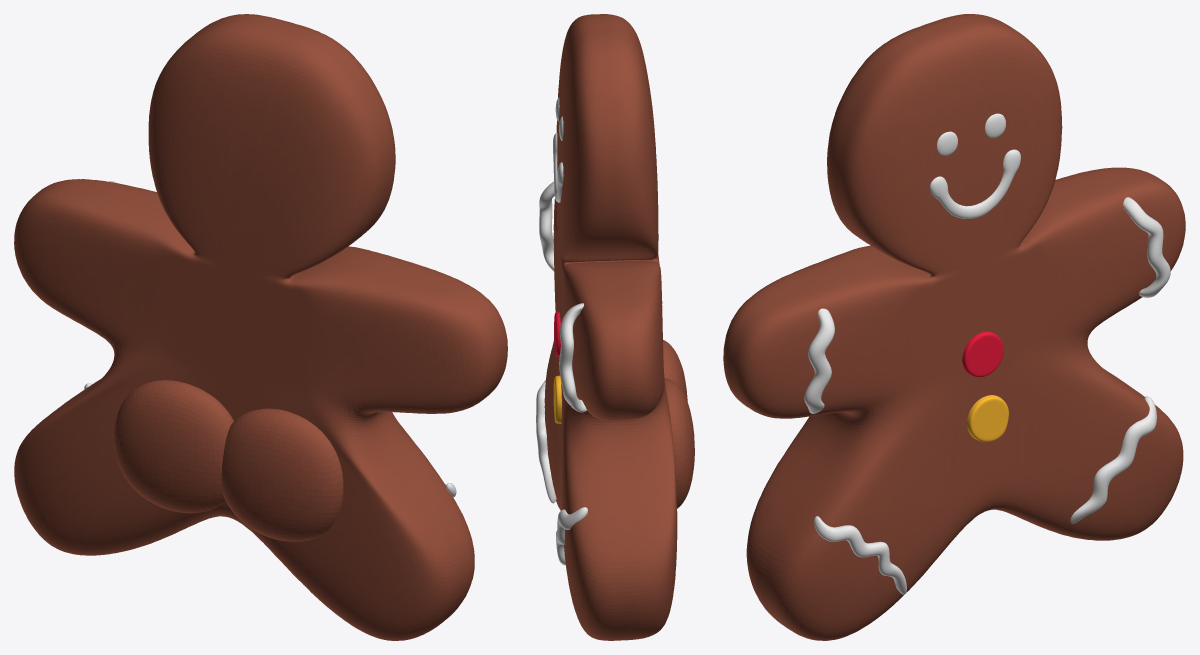
Rendered from gingerbread-draco.glb.
3 renders of one model, left to right at view 1: azimuth 30°, elevation 25°; view 2: azimuth 150°, elevation 25°; view 3: azimuth 270°, elevation 25°, orthographic. The views are drawn at different scales.
Parts seen in each view (by area): view 1: Sphere.010; view 2: Sphere.010; view 3: Sphere.010.
Boxes of the visible parts, <box> form: Sphere.010: <box>14,14,507,640</box>; Sphere.010: <box>536,14,694,640</box>; Sphere.010: <box>723,14,1185,640</box>.
Size of the model in its own units: 4.68 by 8.64 by 6.31.
